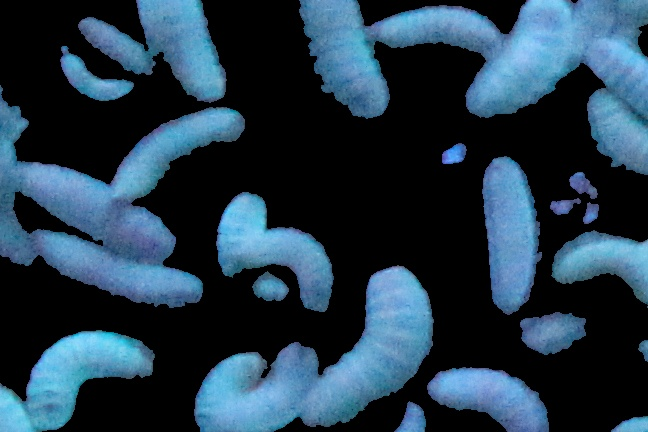larvae: (312, 266, 432, 428), (16, 164, 176, 264), (105, 107, 246, 215), (34, 229, 204, 308), (465, 1, 578, 115), (26, 333, 153, 429), (192, 344, 318, 432), (300, 1, 389, 117), (427, 360, 551, 432), (482, 154, 537, 313), (136, 1, 224, 99), (216, 192, 290, 300), (241, 228, 334, 312), (368, 5, 504, 60), (582, 35, 648, 120), (590, 93, 648, 177), (551, 234, 648, 282), (77, 18, 153, 79), (58, 48, 132, 99), (525, 320, 585, 350)
